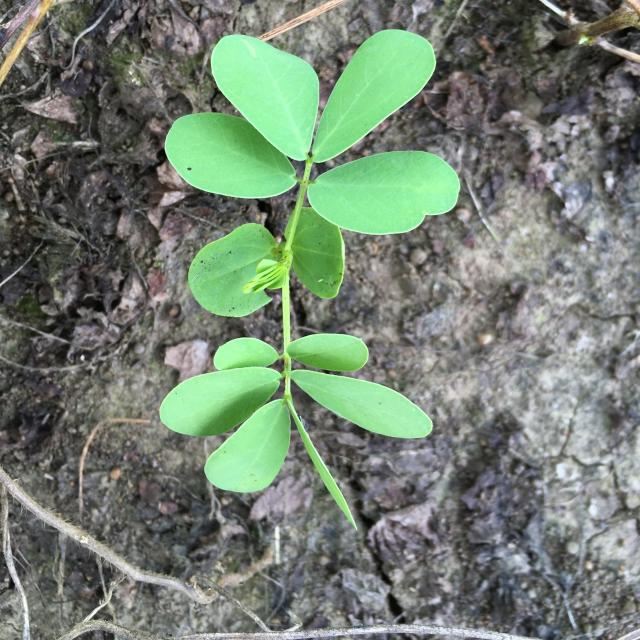Sicklepod: (158, 29, 460, 531)
